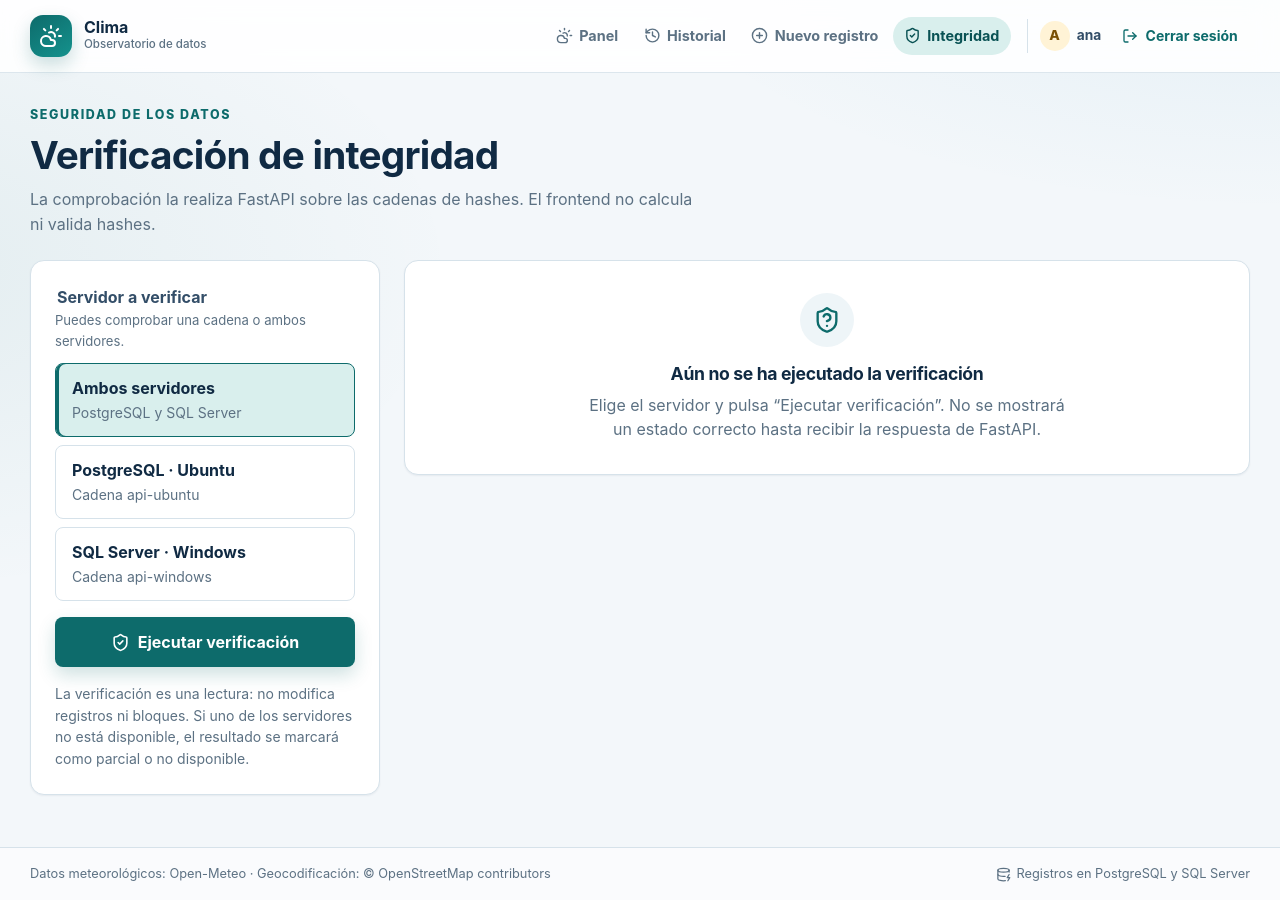
it: verificación de integridad › presenta inconsistencias como error, no como éxito
Expected: the heading "Verificación de integridad" is shown, [30,131,498,178]
Click the button "Ejecutar verificación" at (205,642), box [55,617,355,667]
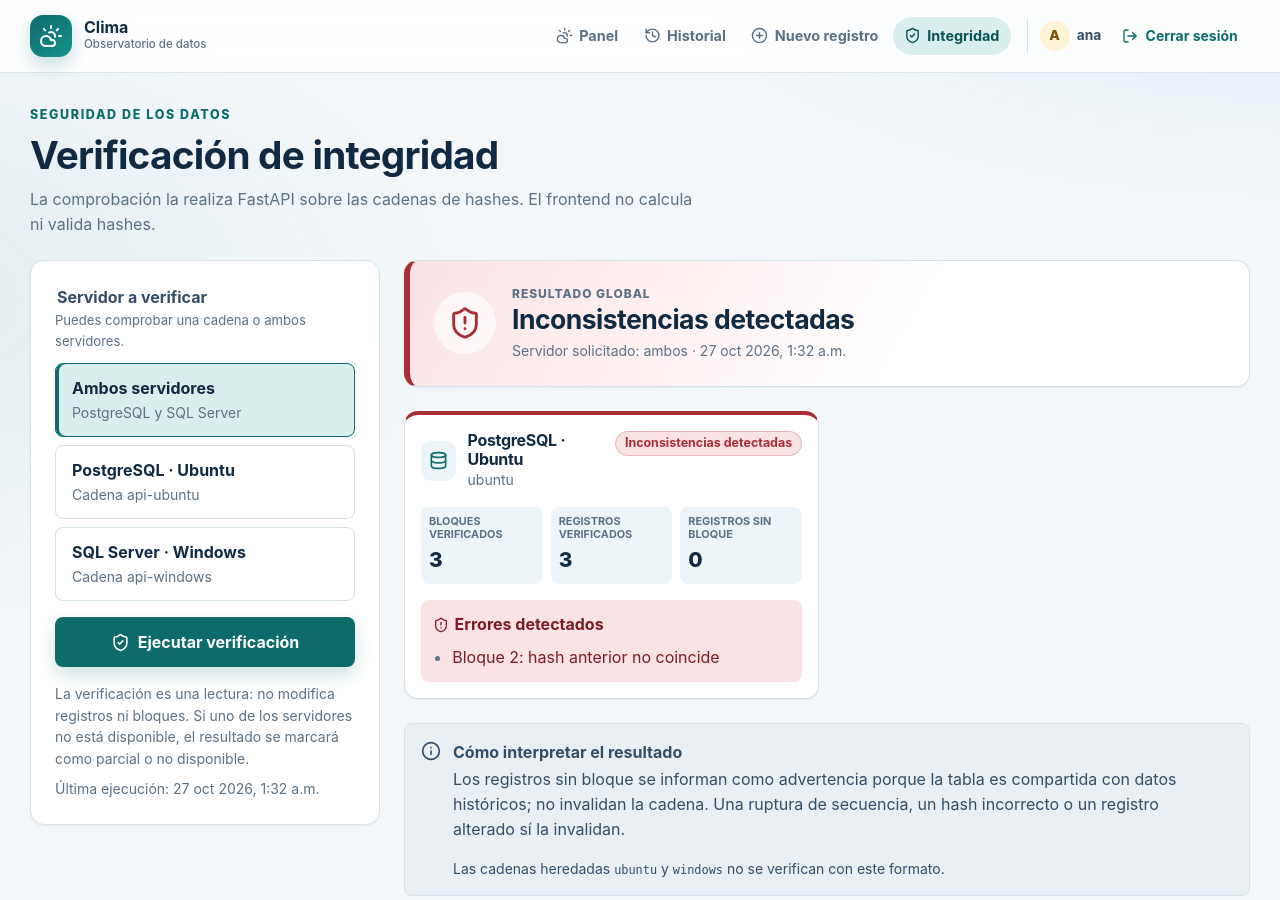
Result: the heading "Inconsistencias detectadas" is shown at [512,304,854,336]
Result: the list item "Bloque 2: hash anterior no coincide" is shown at [452,647,720,667]
